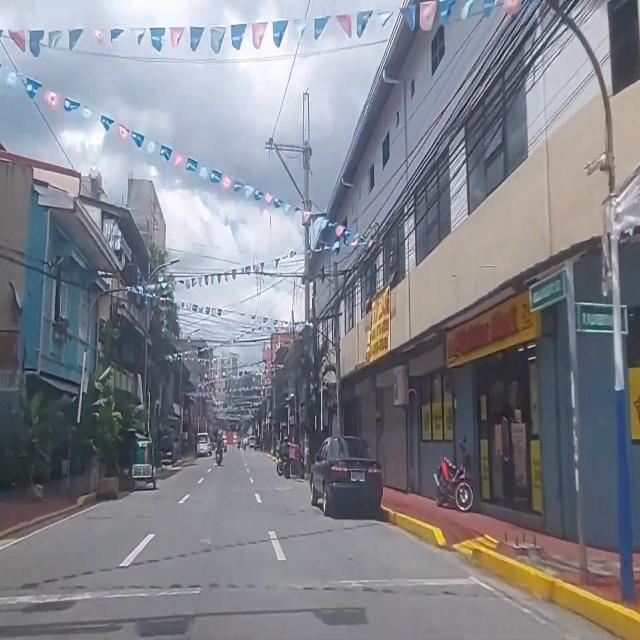car: (308, 436, 382, 516), (196, 432, 208, 458)
motorcycle: (434, 437, 474, 512), (284, 444, 304, 480), (277, 436, 290, 476), (216, 431, 223, 466), (224, 437, 227, 453), (238, 436, 240, 449), (244, 438, 246, 450)
tricycle: (129, 436, 157, 492)
